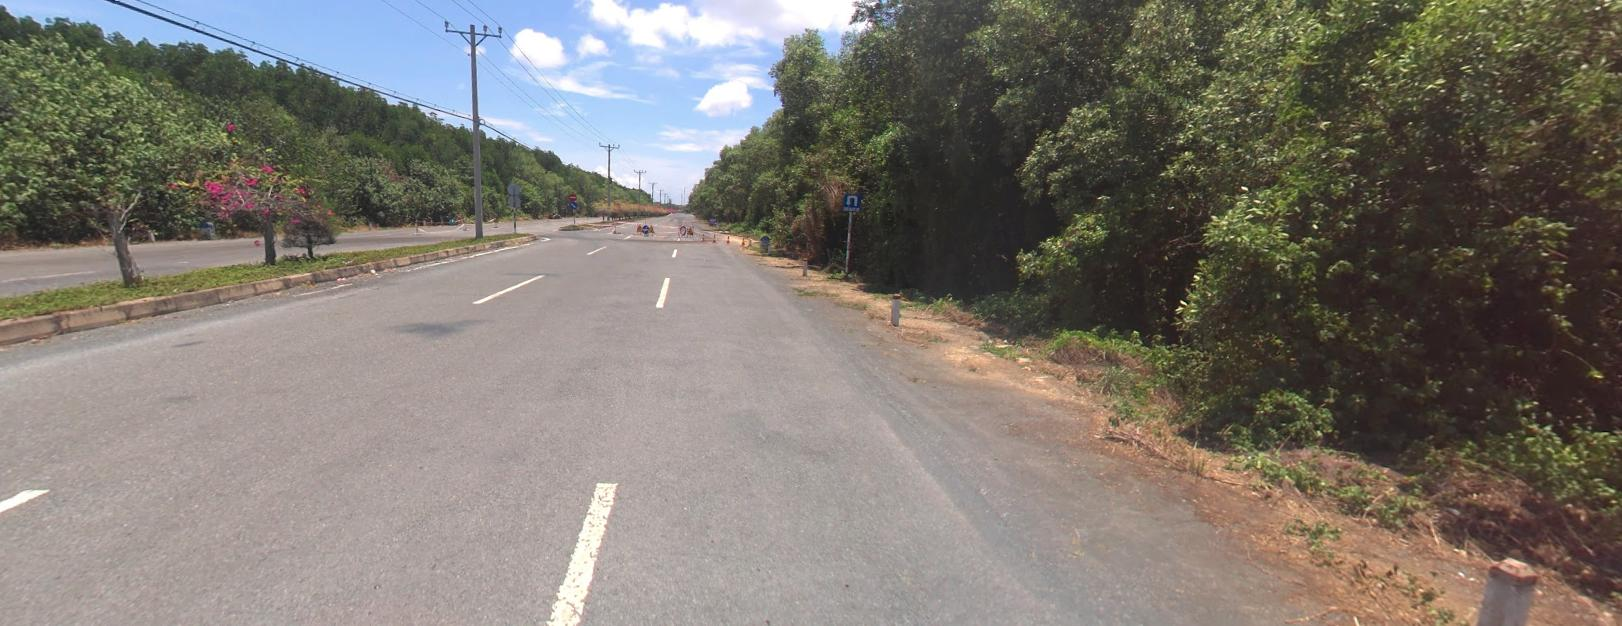Cam con lai: (679, 223, 685, 233)
Cam nguoc chieu: (568, 192, 576, 200)
Hieu lenh: (569, 200, 577, 207), (642, 223, 649, 232)
Nguy hiem: (647, 223, 654, 231), (686, 225, 692, 233), (636, 223, 642, 230)
